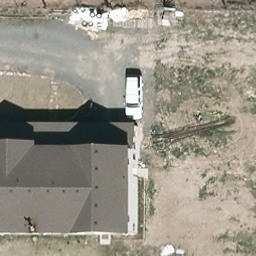car: (121, 72, 143, 120)
